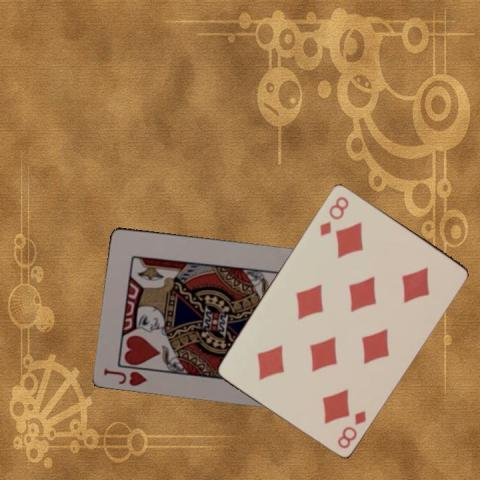8d: (316, 193, 350, 237), (334, 407, 367, 450)
Jh: (101, 366, 149, 388)
